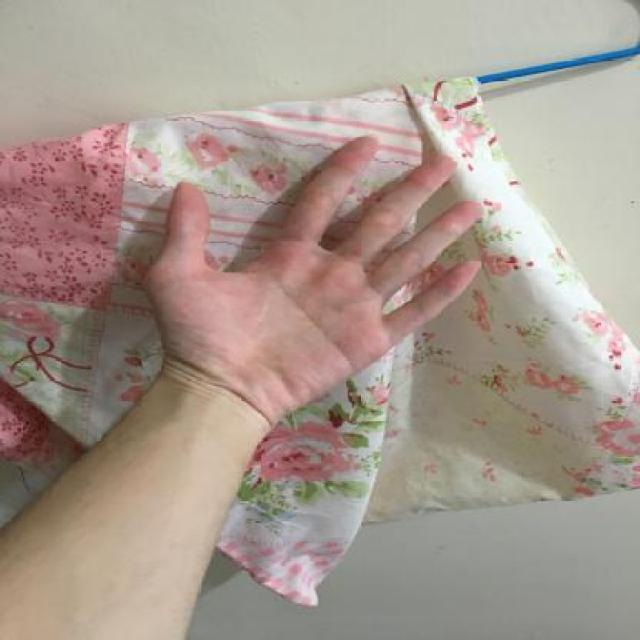bare_hand: (140, 122, 511, 421)
